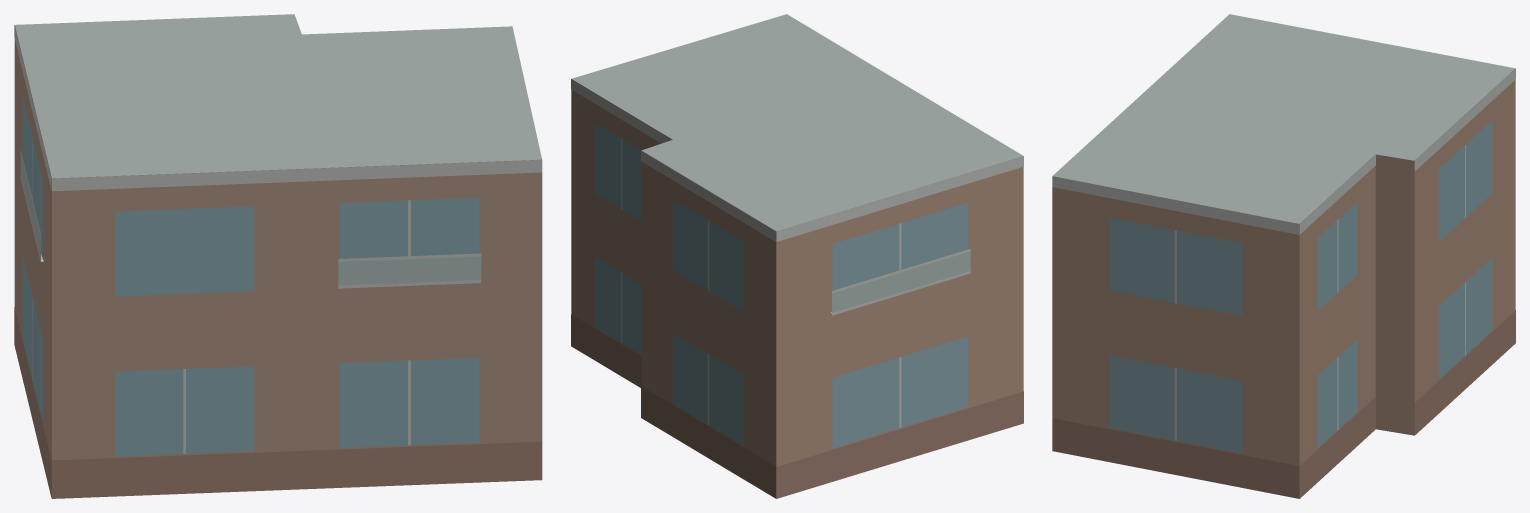
File: survey-upis-32500817.glb
The picture shows the model from 3 angles, left to right: view 1: azimuth 30°, elevation 25°; view 2: azimuth 150°, elevation 25°; view 3: azimuth 270°, elevation 25°; orthographic projection. The views are drawn at different scales.
Visible parts, largest first — view 1: survey-upis-32500817.tmp; view 2: survey-upis-32500817.tmp; view 3: survey-upis-32500817.tmp.
Part boxes in pixels (bbox=[...]): survey-upis-32500817.tmp: bbox=[14, 14, 542, 498]; survey-upis-32500817.tmp: bbox=[571, 14, 1023, 498]; survey-upis-32500817.tmp: bbox=[1052, 14, 1515, 498].
Bounding box in the file's own units: 10 × 6.1 × 9.33.
